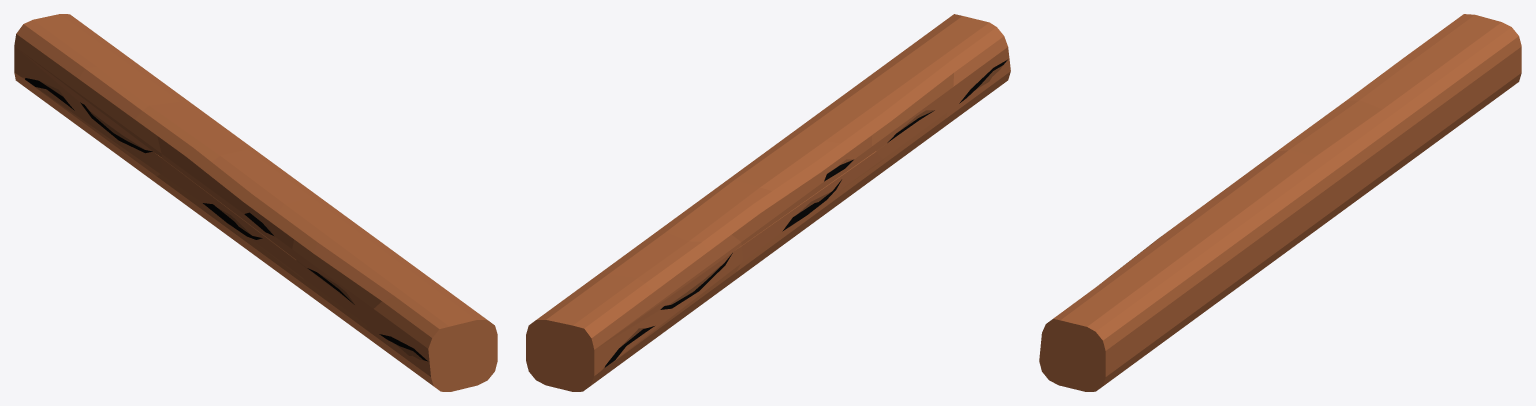
File: Log.fbx
The picture shows the model from 3 angles, left to right: view 1: azimuth 30°, elevation 25°; view 2: azimuth 150°, elevation 25°; view 3: azimuth 330°, elevation 25°; orthographic projection.
Visible parts, largest first — view 1: Cube.001; view 2: Cube.001; view 3: Cube.001.
Boxes of the visible parts, bbox=[...] form: Cube.001: bbox=[14, 14, 497, 391]; Cube.001: bbox=[526, 14, 1010, 391]; Cube.001: bbox=[1039, 14, 1521, 391].
Bounding box in the file's own units: 64.02 × 61.61 × 692.
